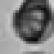correct: (8, 0, 54, 47)
